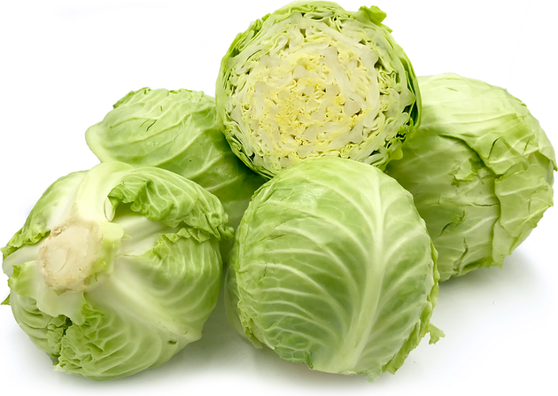cabbage: (6, 161, 227, 384), (226, 157, 445, 378)
